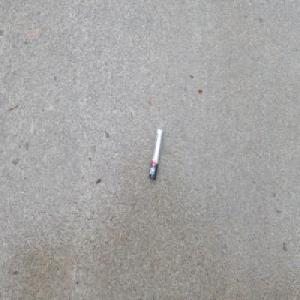Battery: (149, 127, 163, 182)
